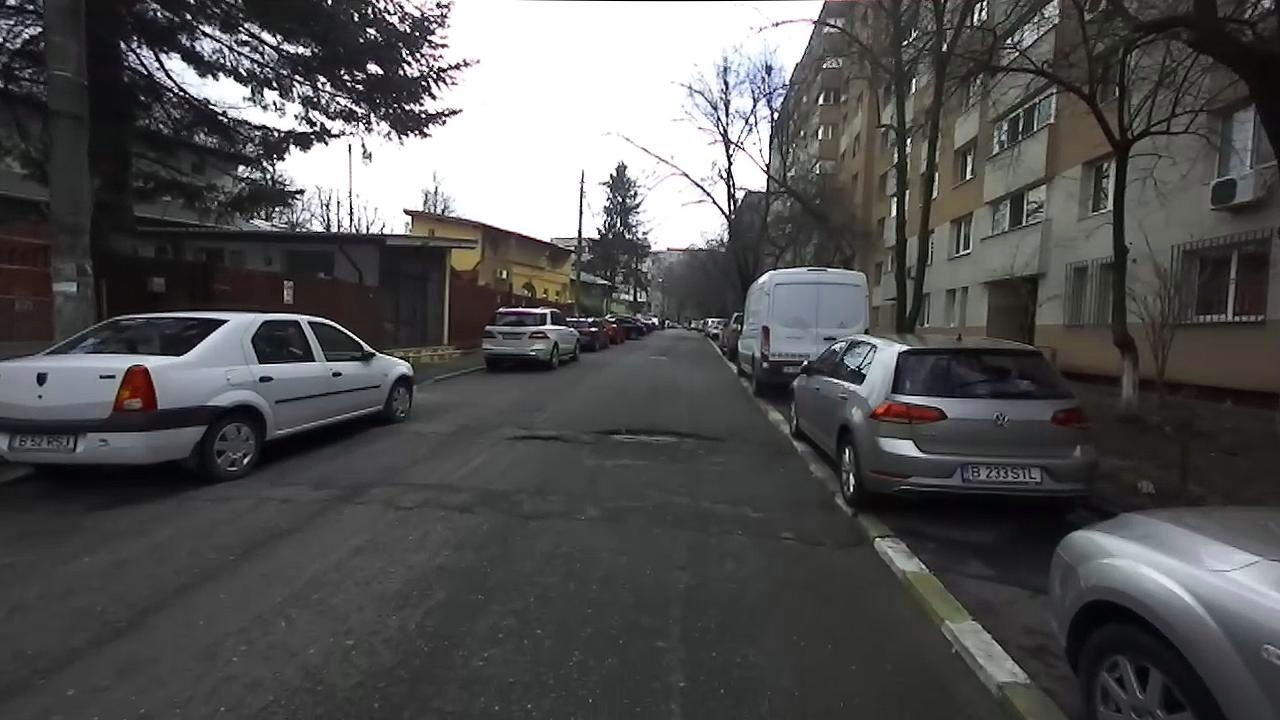pothole: (590, 423, 730, 446), (770, 532, 854, 556), (504, 428, 576, 443)
